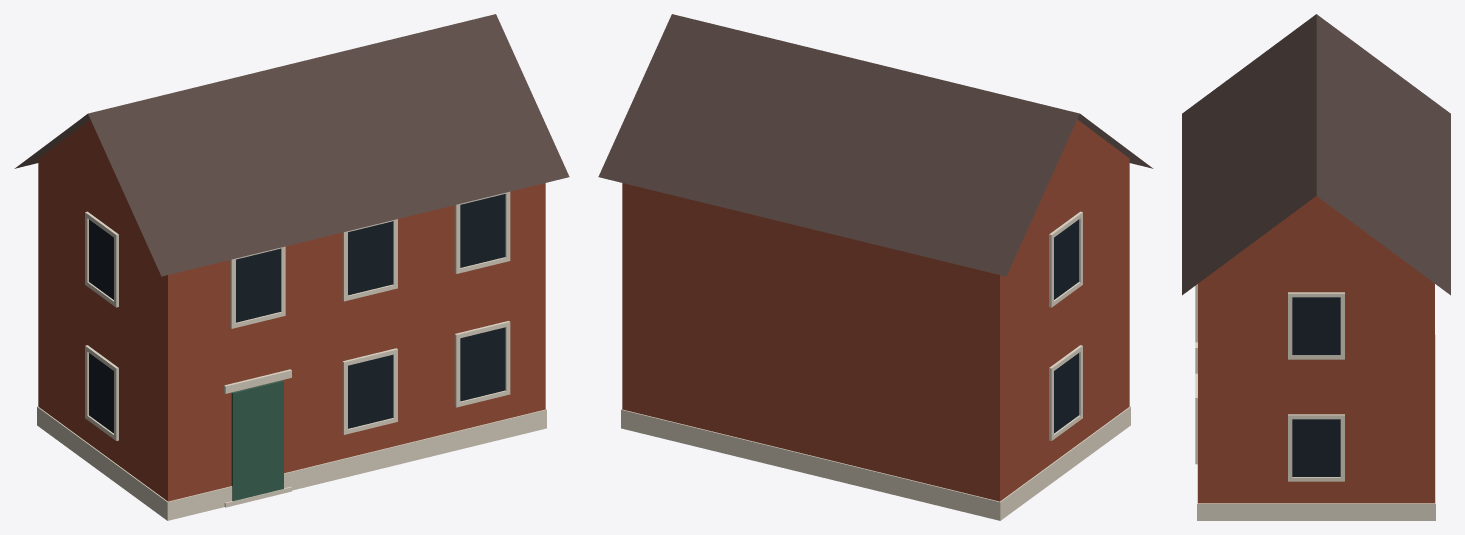
The model's file is brick-pitched.glb.
3 views of the same model, side by side, from view 1: azimuth 30°, elevation 25°; view 2: azimuth 150°, elevation 25°; view 3: azimuth 270°, elevation 25° (orthographic). The views are drawn at different scales.
Visible parts, largest first — view 1: Brick, Roof, Trim, Window, Door; view 2: Brick, Roof, Trim, Window; view 3: Brick, Roof, Trim, Window.
Part boxes in pixels (box(x1,y1,x2,y2)): Brick: box(38, 119, 545, 501); Roof: box(14, 14, 569, 276); Trim: box(37, 191, 546, 520); Window: box(89, 194, 505, 433); Door: box(231, 380, 283, 501); Brick: box(622, 119, 1129, 501); Roof: box(598, 14, 1153, 276); Trim: box(621, 211, 1130, 520); Window: box(1054, 219, 1078, 433); Brick: box(1198, 196, 1434, 503); Roof: box(1182, 14, 1450, 295); Trim: box(1195, 284, 1435, 520); Window: box(1292, 297, 1340, 476).
Bounding box in the file's own units: 8 × 6.8 × 5.
